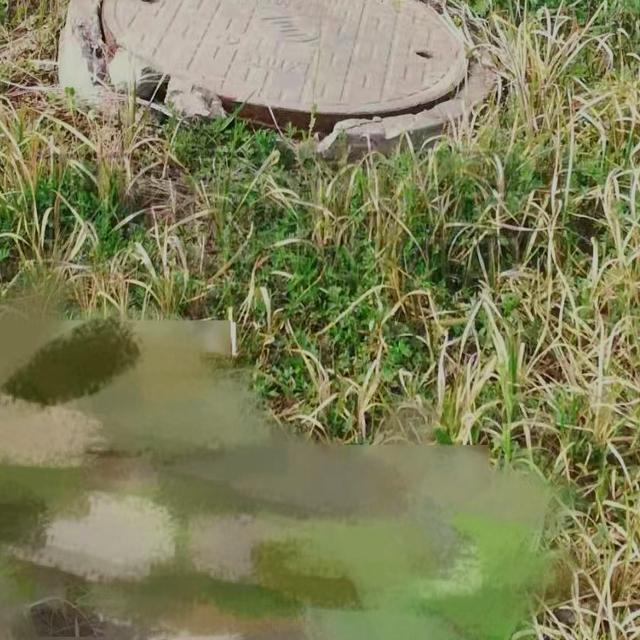circle: (62, 0, 527, 161)
